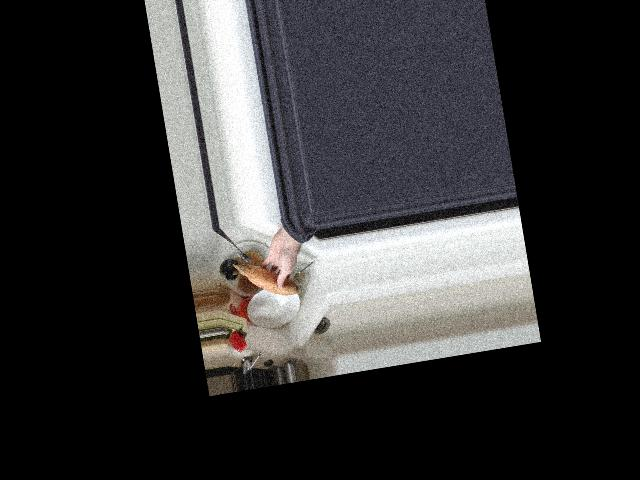sweet_potato: (234, 252, 300, 305)
